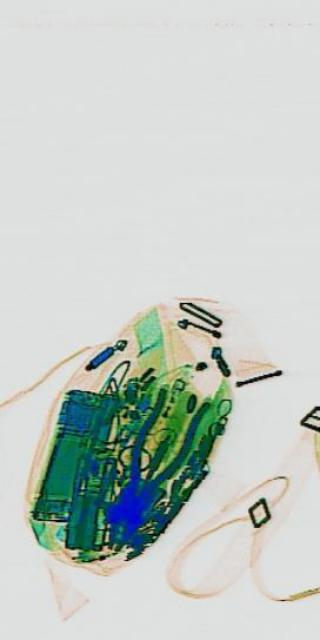Pliers: (93, 348, 209, 574)
